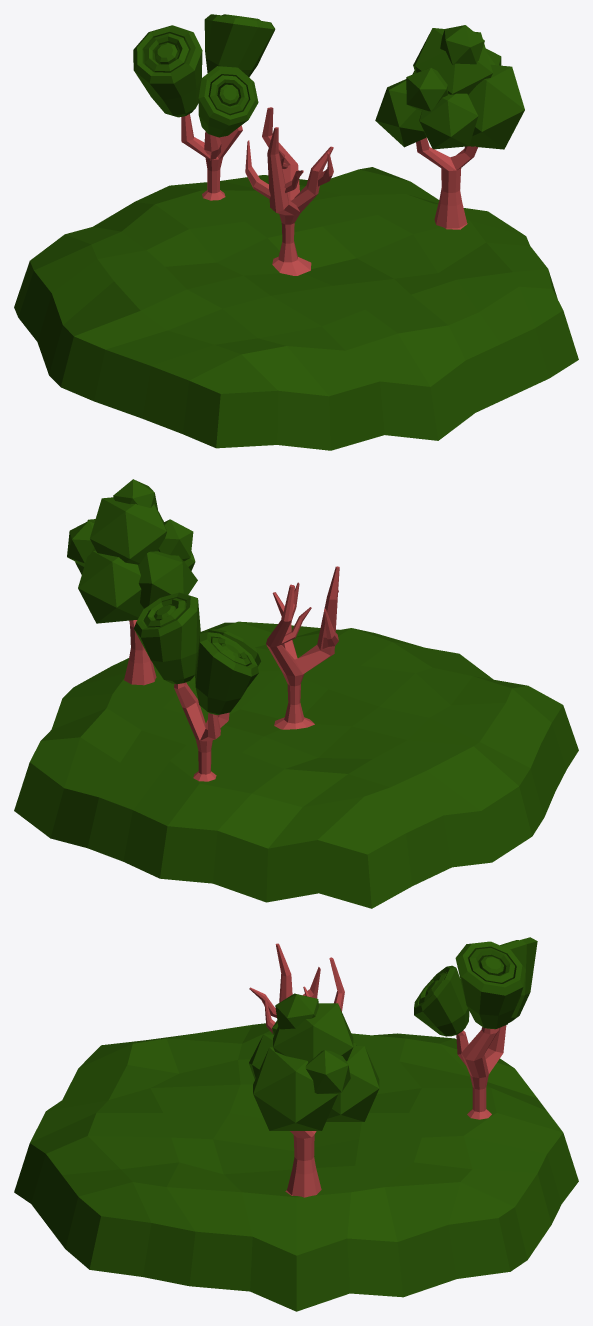
The model's file is grass.obj.
The picture shows the model from 3 angles, top to bottom: view 1: azimuth 30°, elevation 25°; view 2: azimuth 150°, elevation 25°; view 3: azimuth 270°, elevation 25°; orthographic projection. The views are drawn at different scales.
Parts seen in each view (by area): view 1: Plane, Icosphere_003, Cylinder_001, Cylinder_000; view 2: Plane, Icosphere_003, Cylinder_001, Cylinder_000; view 3: Plane, Icosphere_003, Cylinder_001, Cylinder_000.
Part boxes in pixels (x1,y1,x2,y2): Plane: (14, 167, 578, 450); Icosphere_003: (375, 25, 524, 229); Cylinder_001: (133, 14, 275, 200); Cylinder_000: (245, 107, 333, 275); Plane: (14, 621, 578, 908); Icosphere_003: (67, 479, 197, 685); Cylinder_001: (134, 592, 260, 781); Cylinder_000: (266, 566, 339, 729); Plane: (14, 1023, 578, 1311); Icosphere_003: (249, 993, 379, 1197); Cylinder_001: (414, 937, 537, 1119); Cylinder_000: (249, 943, 344, 1033).
Bounding box in the file's own units: 3738 × 2047 × 3738.
